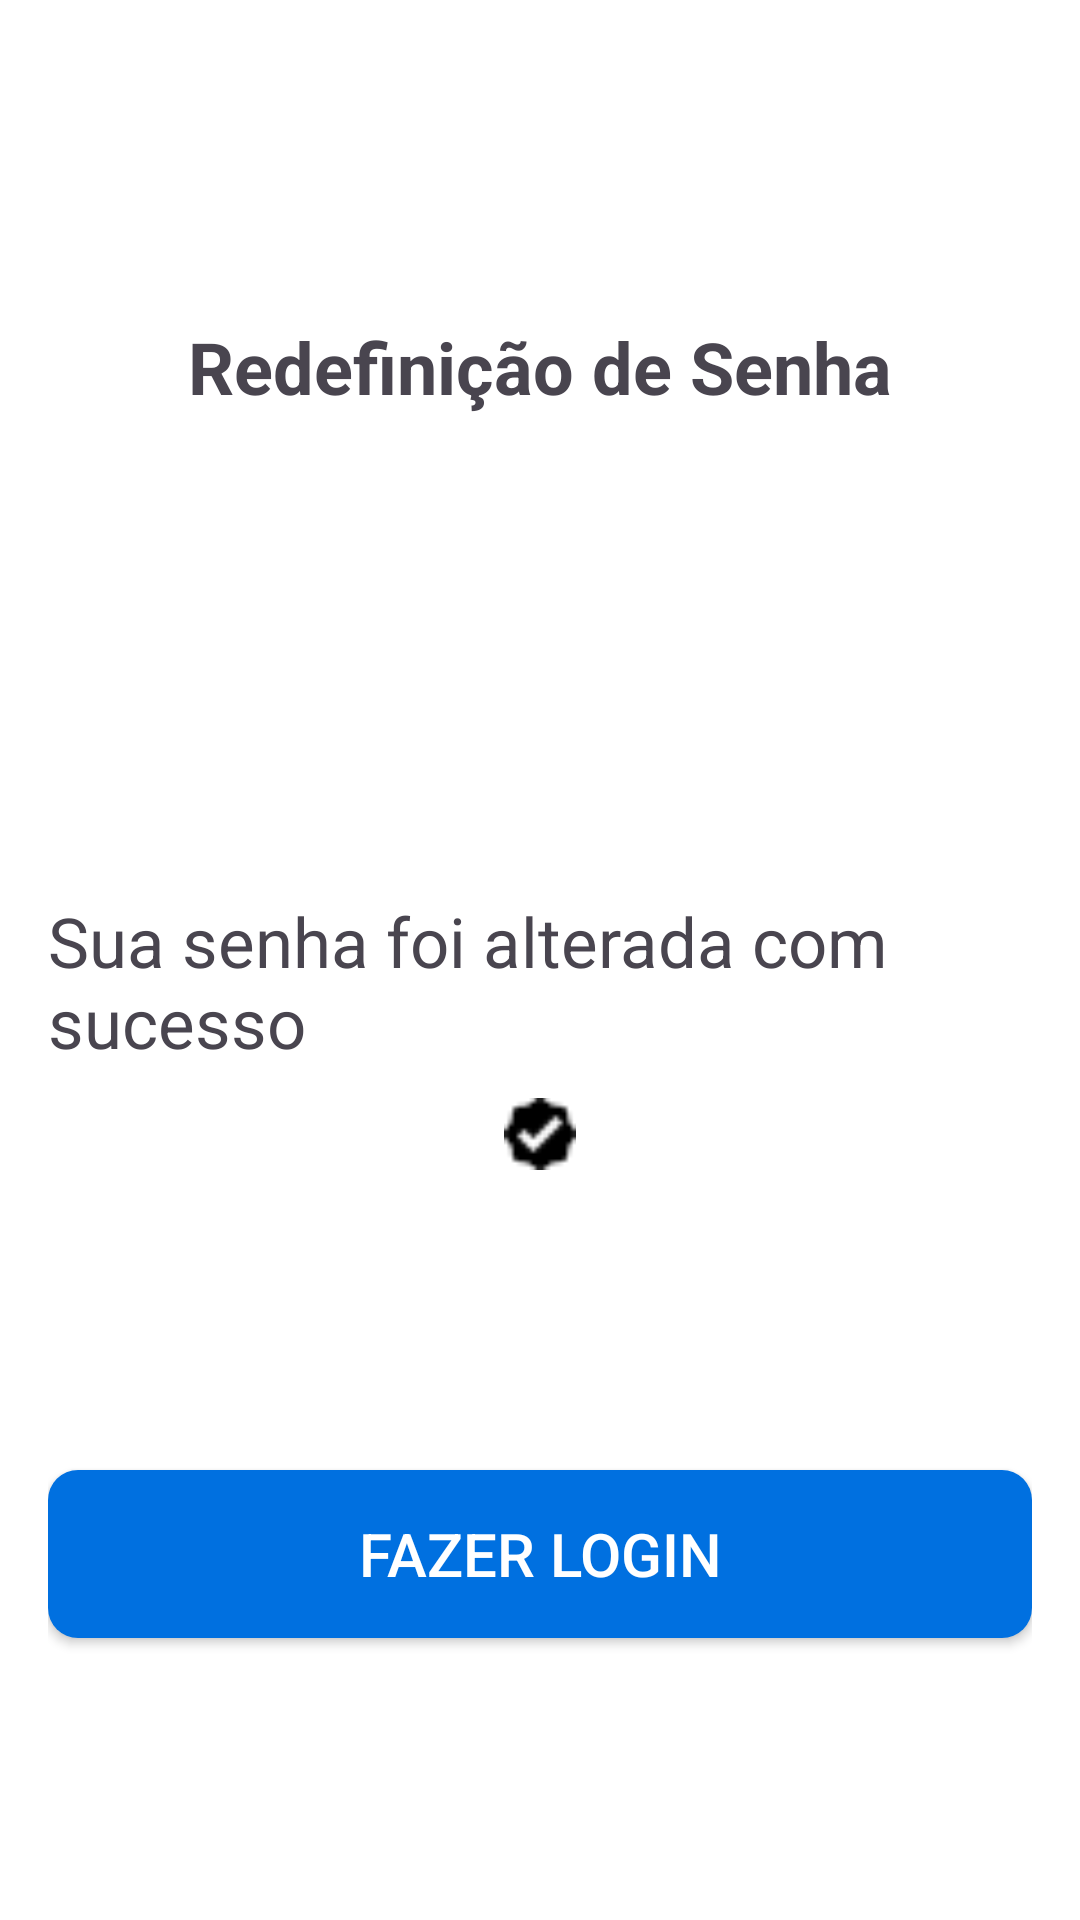

Screen size 1080px x 1920px. Icon name, then its box in pixels as box(x1, y1, x2, y2):
visto: box(504, 1098, 576, 1170)
